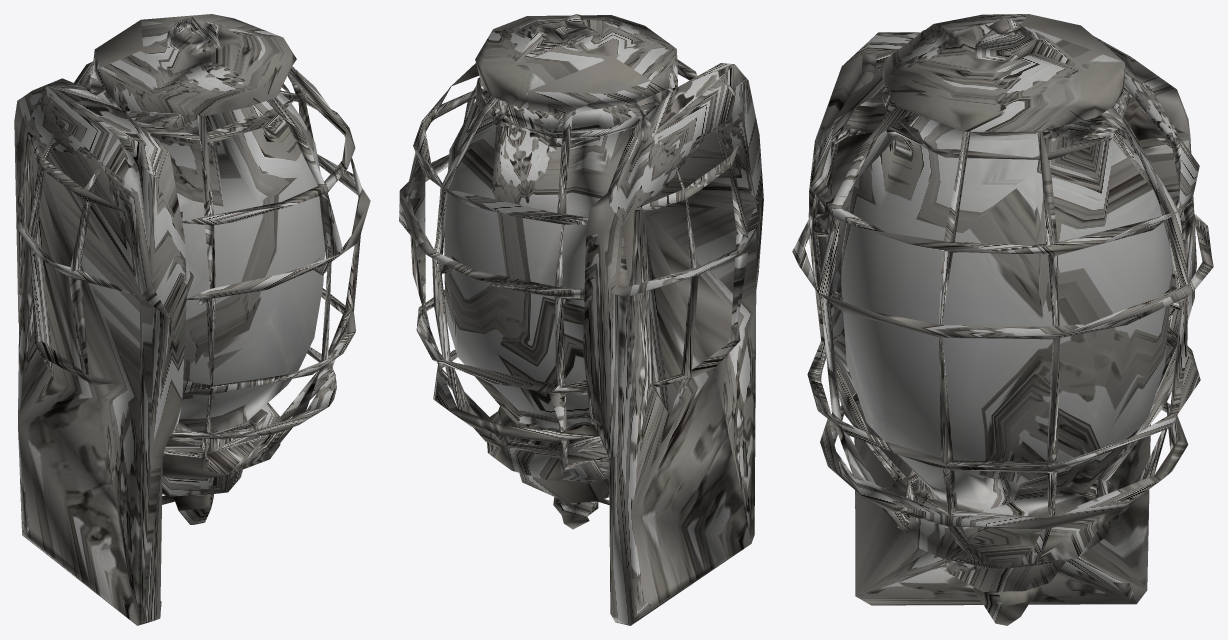
File: gov_wall_lamp.glb
The picture shows the model from 3 angles, left to right: view 1: azimuth 30°, elevation 25°; view 2: azimuth 150°, elevation 25°; view 3: azimuth 270°, elevation 25°; orthographic projection. The views are drawn at different scales.
Visible parts, largest first — view 1: tripo_node_914669a6-1fe4-43f1-8fa9-52ec112b0851; view 2: tripo_node_914669a6-1fe4-43f1-8fa9-52ec112b0851; view 3: tripo_node_914669a6-1fe4-43f1-8fa9-52ec112b0851.
Part boxes in pixels (x1,y1,x2,y2): tripo_node_914669a6-1fe4-43f1-8fa9-52ec112b0851: (14, 14, 370, 625); tripo_node_914669a6-1fe4-43f1-8fa9-52ec112b0851: (399, 14, 763, 625); tripo_node_914669a6-1fe4-43f1-8fa9-52ec112b0851: (792, 14, 1213, 625).
Size of the model in its own units: 0.6018 by 0.9994 by 0.5926.
1 material, 1 textured.
